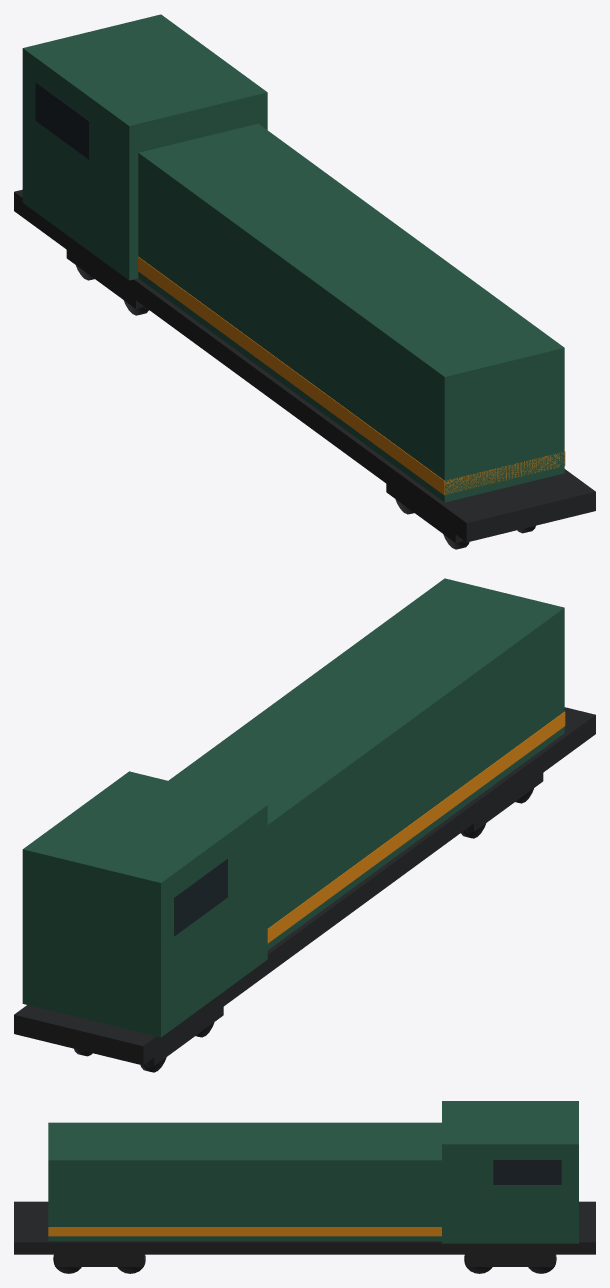
File: Locomotive.fbx
3 views of the same model, one above another, from view 1: azimuth 30°, elevation 25°; view 2: azimuth 150°, elevation 25°; view 3: azimuth 270°, elevation 25° (orthographic). The views are drawn at different scales.
Visible parts, largest first — view 1: Hood, Cab, Frame, Stripe, CabWindows, Bogie-11, Bogie-1-1; view 2: Hood, Cab, Frame, Stripe, CabWindows, Bogie-1-1, Bogie-11; view 3: Hood, Cab, Frame, Stripe, CabWindows, Bogie1-1, Bogie11.
Part boxes in pixels (x1,y1,x2,y2): Hood: (138, 123, 564, 502); Cab: (22, 14, 267, 280); Frame: (14, 189, 595, 542); Stripe: (138, 256, 565, 495); CabWindows: (35, 82, 89, 159); Bogie-11: (66, 250, 142, 308); Bogie-1-1: (386, 484, 462, 542); Hood: (168, 578, 564, 949); Cab: (22, 771, 267, 1037); Frame: (14, 707, 595, 1065); Stripe: (267, 711, 565, 943); CabWindows: (174, 858, 227, 935); Bogie-1-1: (467, 773, 543, 831); Bogie-11: (147, 1007, 223, 1065); Hood: (48, 1122, 441, 1240); Cab: (442, 1101, 578, 1243); Frame: (14, 1201, 595, 1254); Stripe: (48, 1227, 441, 1236); CabWindows: (493, 1160, 561, 1184); Bogie1-1: (55, 1254, 143, 1266); Bogie11: (466, 1254, 554, 1266).
Size of the model in its own units: 302 by 1700 by 450.
